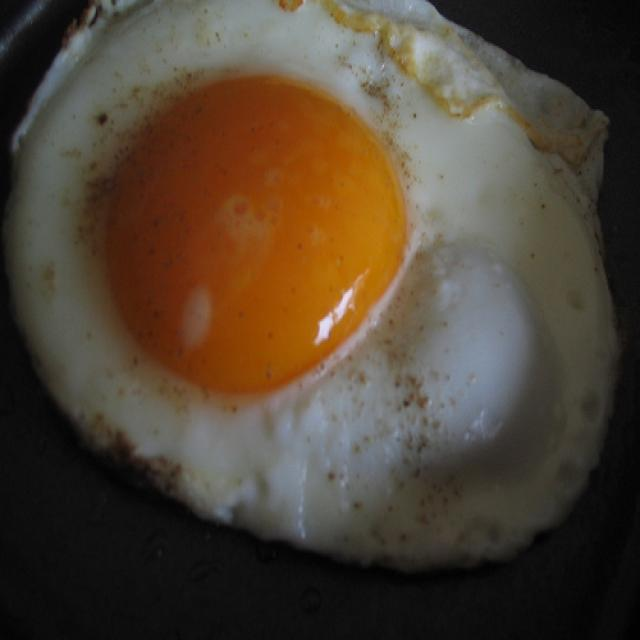鸡蛋料理: (0, 0, 626, 565)
